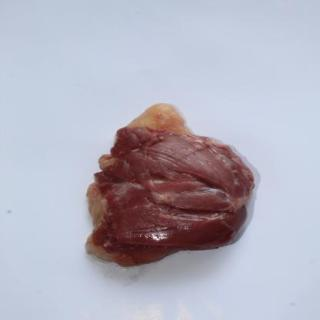Daging Sapi: (93, 107, 255, 270)
